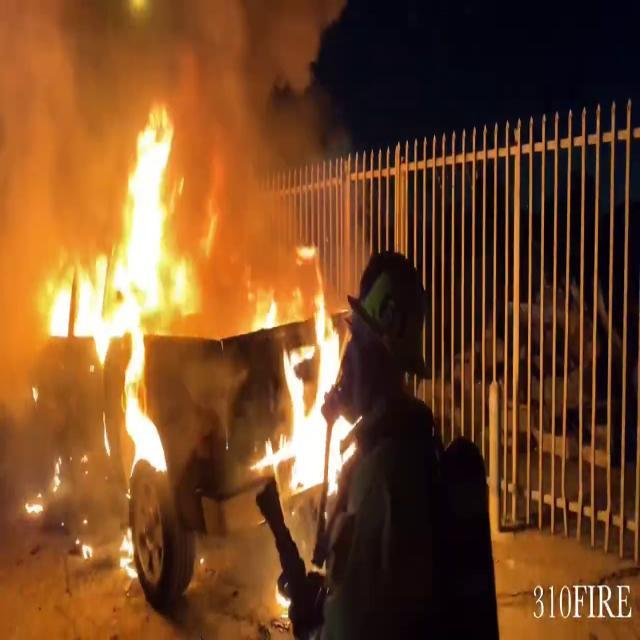Fire: (38, 107, 204, 466), (255, 278, 358, 498)
Smoke: (173, 1, 351, 276)
